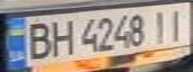2: (93, 12, 118, 52)
4: (75, 14, 100, 54), (112, 11, 133, 50)
8: (127, 10, 151, 47)
B: (21, 19, 54, 61)
H: (45, 16, 78, 57)
I: (163, 6, 190, 43), (148, 7, 172, 44)
